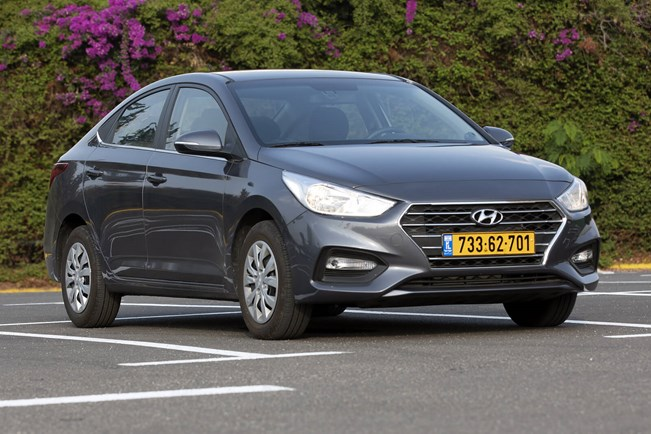licence: (441, 230, 536, 258)
